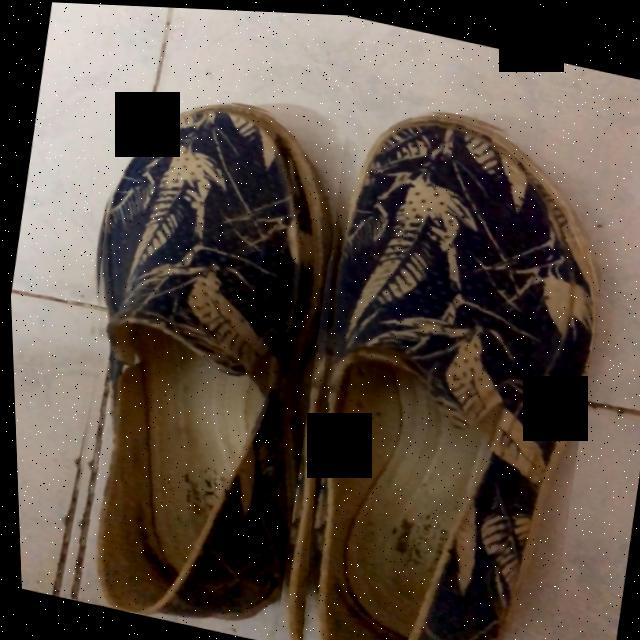shoe: (305, 111, 598, 640), (86, 103, 331, 616)
